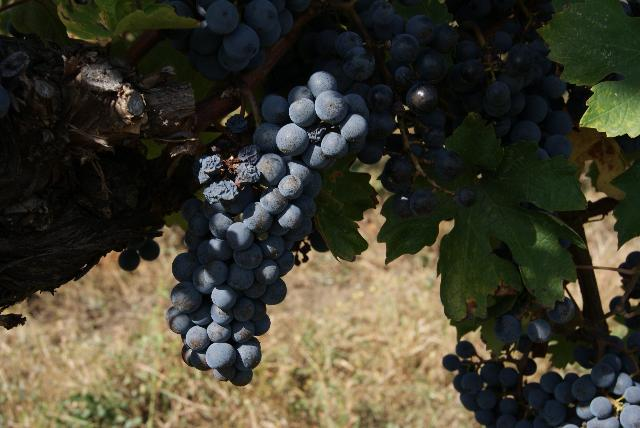grapes: (168, 72, 369, 385)
